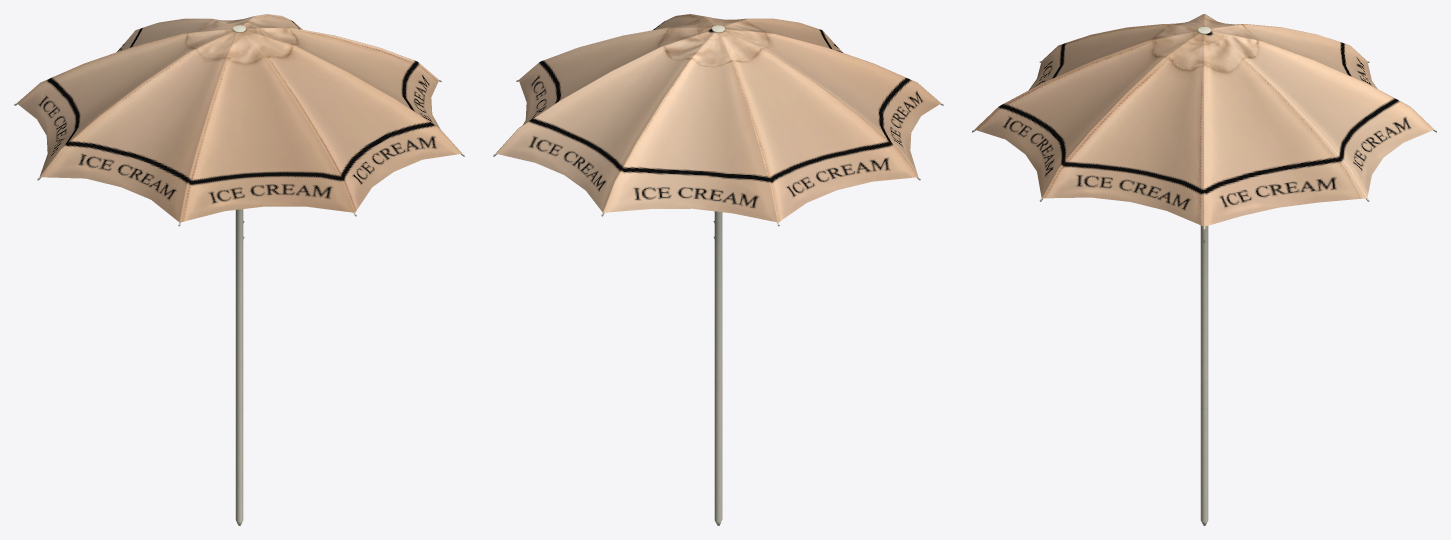
File: Parasol3.fbx
The picture shows the model from 3 angles, left to right: view 1: azimuth 30°, elevation 25°; view 2: azimuth 150°, elevation 25°; view 3: azimuth 270°, elevation 25°; orthographic projection.
Parts seen in each view (by area): view 1: Parasol3_LOD0; view 2: Parasol3_LOD0; view 3: Parasol3_LOD0.
Part boxes in pixels (box(x1,y1,x2,y2)): Parasol3_LOD0: box(14, 14, 464, 525); Parasol3_LOD0: box(493, 14, 943, 525); Parasol3_LOD0: box(972, 14, 1436, 525).
Size of what is drawn, in the model's own units: 203 by 239 by 203.
